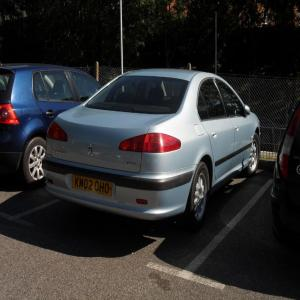Vehicle-registration-plate: (69, 174, 114, 203)
